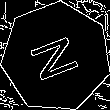N_E: (25, 29, 87, 84)
